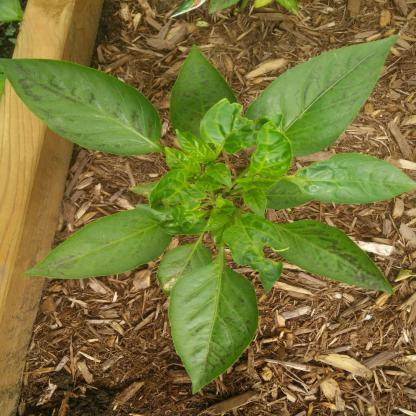Bell_pepper leaf spot: (252, 34, 397, 156), (2, 54, 168, 158), (171, 264, 266, 387), (264, 216, 396, 294), (29, 209, 176, 276), (162, 44, 240, 136), (290, 153, 414, 206)
